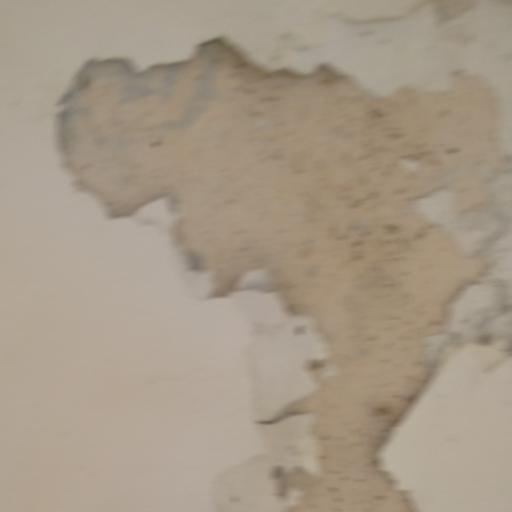peeling: (51, 26, 512, 512)
